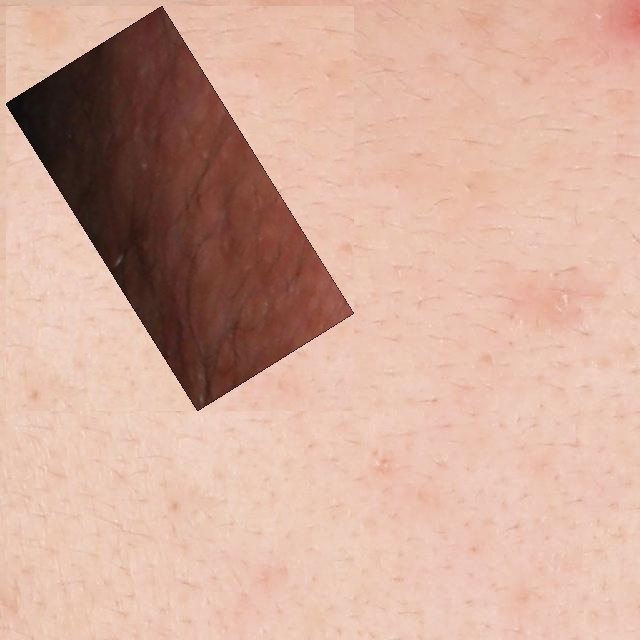hypertrophic_scar: (17, 17, 343, 399)
